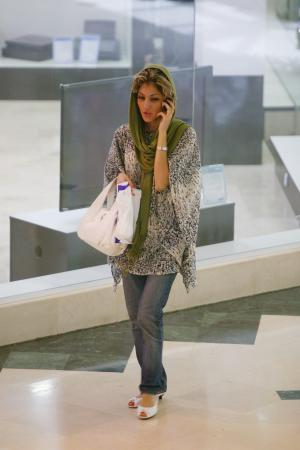person: (79, 63, 200, 418)
